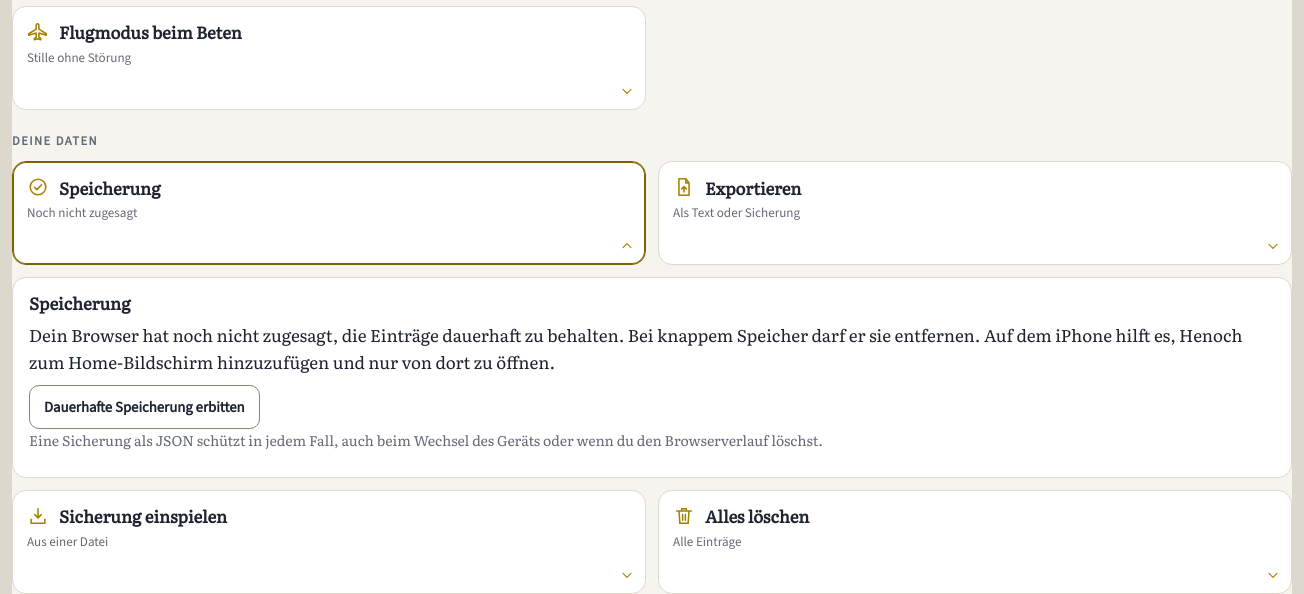
it: Mehr: Daten › says whether the browser keeps the entries, and asks it again on request
The width and height of the screenshot is (1304, 594).
(page scrolled)
Check: the text "noch nicht zugesagt" is shown, box x1=29 y1=322 x2=1243 y2=374
What coordinates should you click on to do the following:
click the button "Dauerhafte Speicherung erbitten"
I would click on:
 (144, 407)
Its box is x1=29 y1=385 x2=260 y2=429.
(page scrolled)
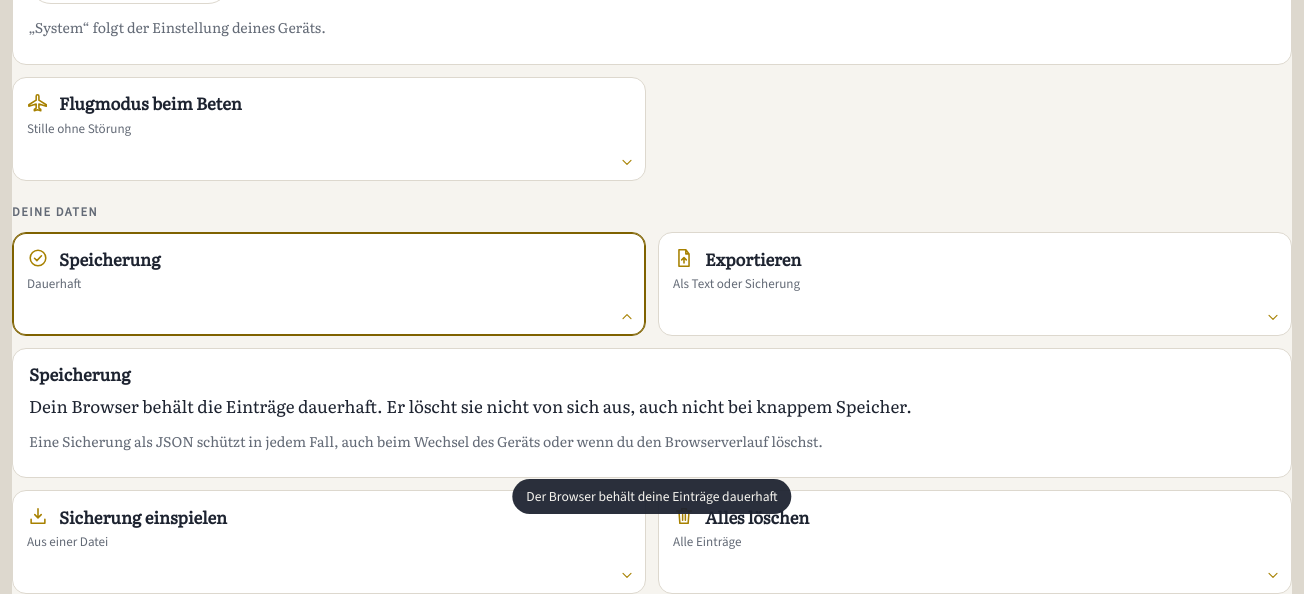
Check: the text "Dein Browser behält die Einträge dauerhaft" is shown, box x1=29 y1=393 x2=912 y2=418
Check: the button "Dauerhafte Speicherung erbitten" is gone
